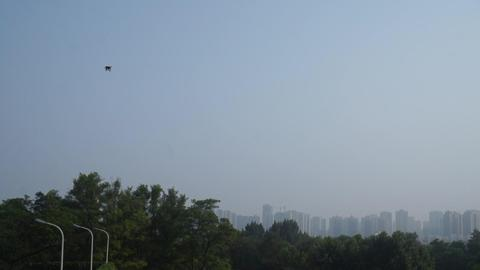UAV: (104, 66, 112, 72)
